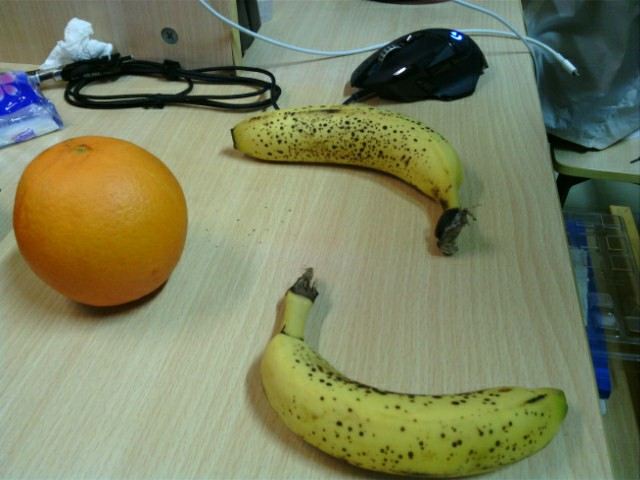normal_banana: (262, 269, 572, 477), (230, 105, 474, 258)
normal_orange: (12, 136, 188, 308)
